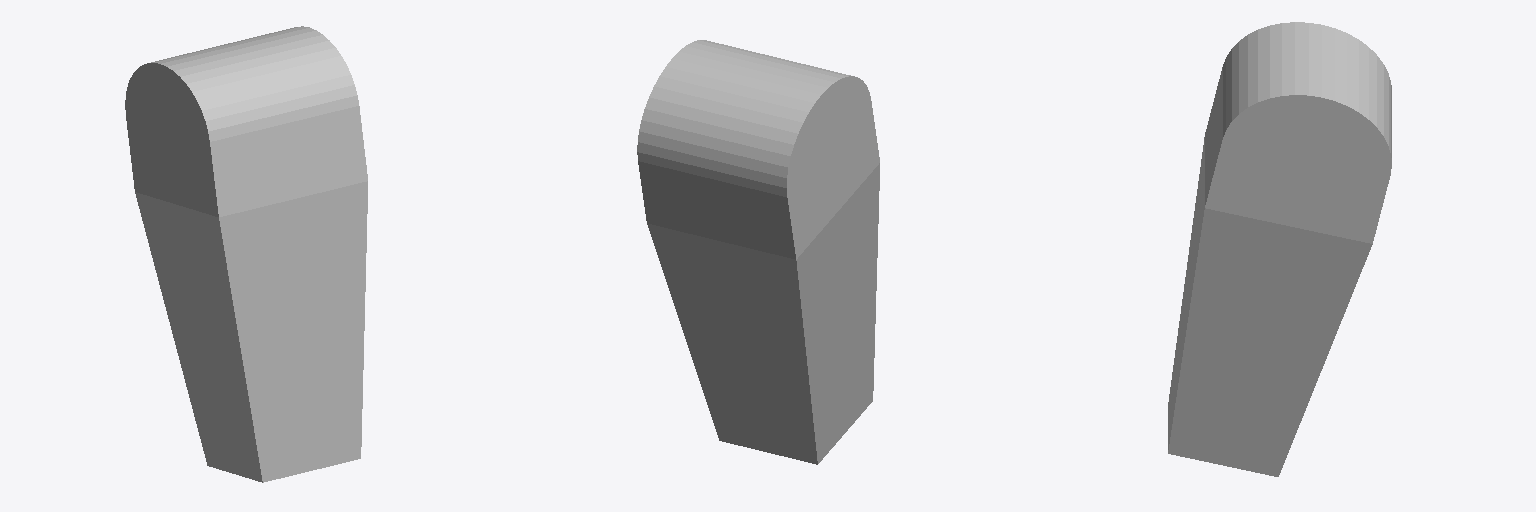
Rendered from e_right_arm1.obj.
The picture shows the model from 3 angles: view 1: azimuth 30°, elevation 25°; view 2: azimuth 150°, elevation 25°; view 3: azimuth 270°, elevation 25°; orthographic projection.
Size of the model in its own units: 0.4089 by 1.03 by 0.5309.